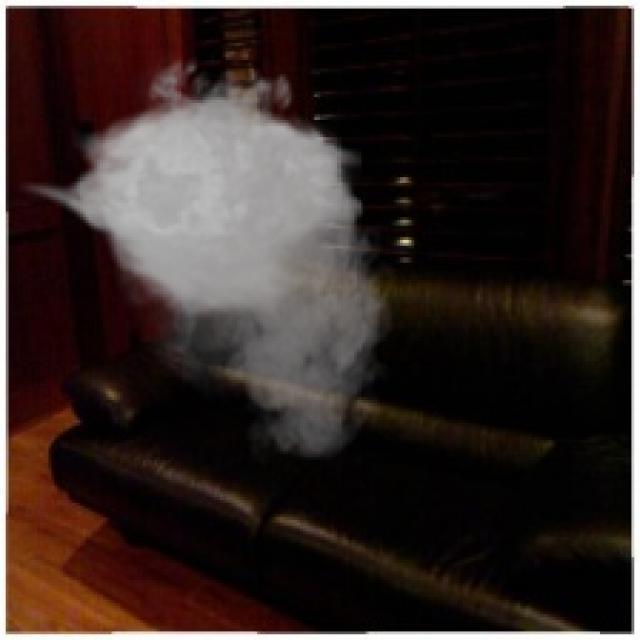Smoke: (17, 46, 403, 466)
